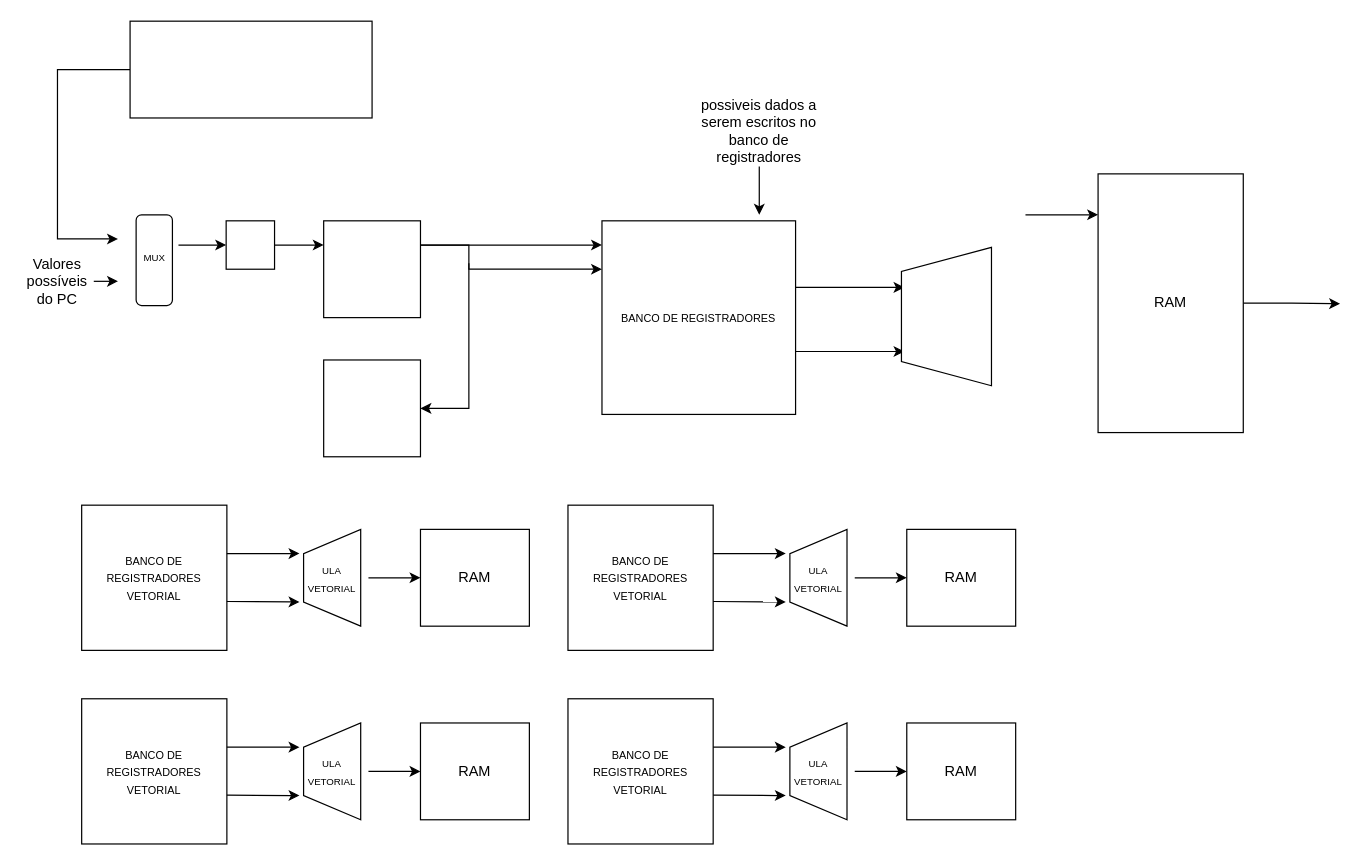
Image size: 1371x865. Some labels were removed from this diagram. The box of each missing label's shape, as (x1, y1, x2, y2) in pixels:
MEMÓRIA DE INSTRUÇÕES: (322, 220, 420, 318)
PC: (225, 220, 275, 269)
REPETITION LOGICAL UNIT: (129, 20, 372, 118)
ULA: (900, 246, 991, 386)
UNIDADE DE CONTROLE: (322, 359, 420, 457)
